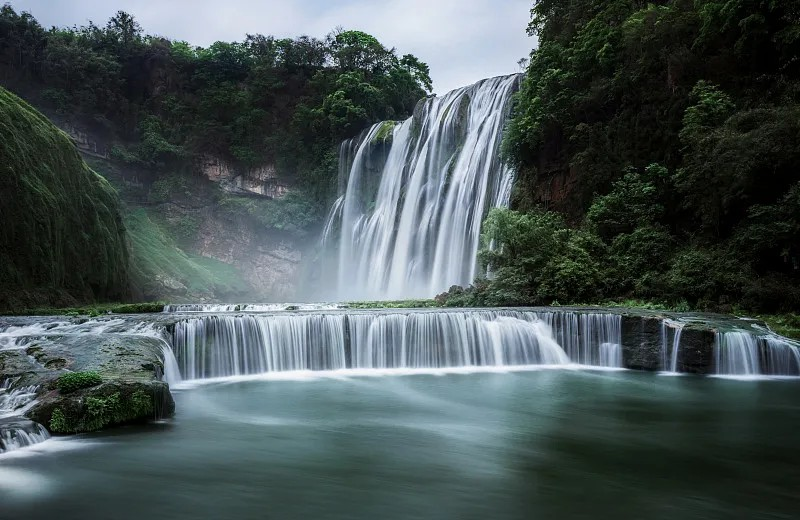Huangguoshu: (327, 75, 523, 301)
